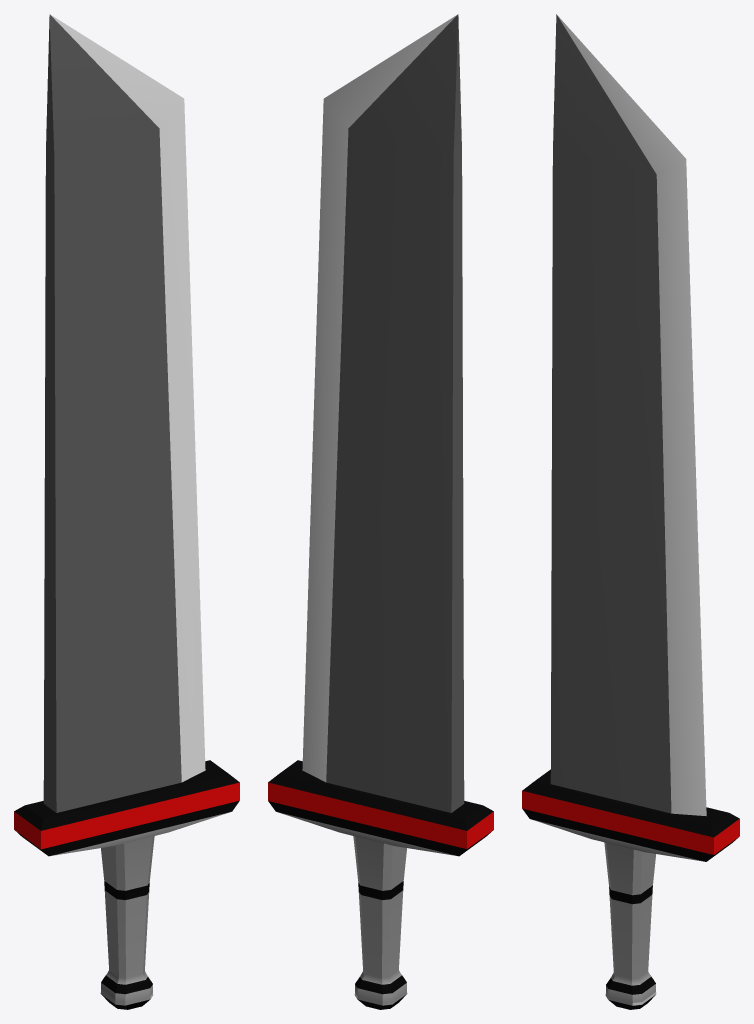
Rendered from Great Sword.fbx.
3 renders of one model, left to right at view 1: azimuth 30°, elevation 25°; view 2: azimuth 150°, elevation 25°; view 3: azimuth 330°, elevation 25°, orthographic. The views are drawn at different scales.
Visible parts, largest first — view 1: pCube4; view 2: pCube4; view 3: pCube4.
Boxes of the visible parts, box(x1,y1,x2,y2) form: pCube4: box(14, 14, 239, 1009); pCube4: box(268, 14, 493, 1009); pCube4: box(522, 14, 739, 1009).
Bounding box in the file's own units: 0.6879 × 3.33 × 0.161.
